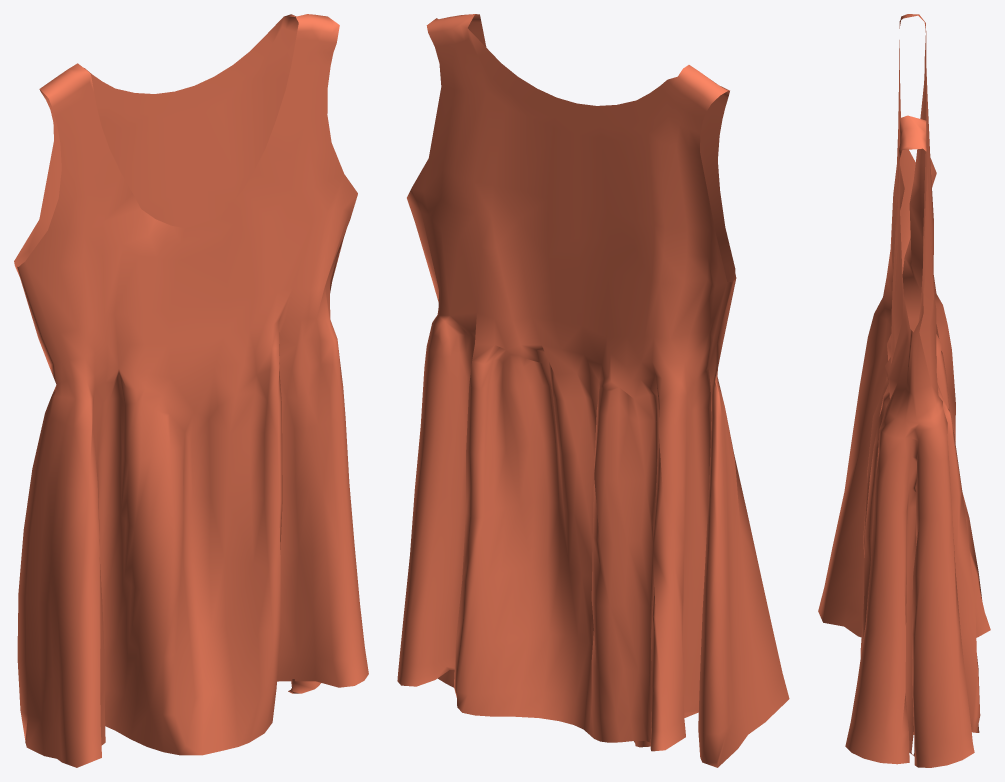
The model's file is Dress11.fbx.
The picture shows the model from 3 angles, left to right: view 1: azimuth 30°, elevation 25°; view 2: azimuth 150°, elevation 25°; view 3: azimuth 270°, elevation 25°; orthographic projection. The views are drawn at different scales.
Visible parts, largest first — view 1: Dress11; view 2: Dress11; view 3: Dress11.
Boxes of the visible parts, box(x1,y1,x2,y2) form: Dress11: box(14, 14, 368, 767); Dress11: box(397, 14, 789, 767); Dress11: box(818, 14, 990, 767).
Bounding box in the file's own units: 41.89 × 83.99 × 19.78.
